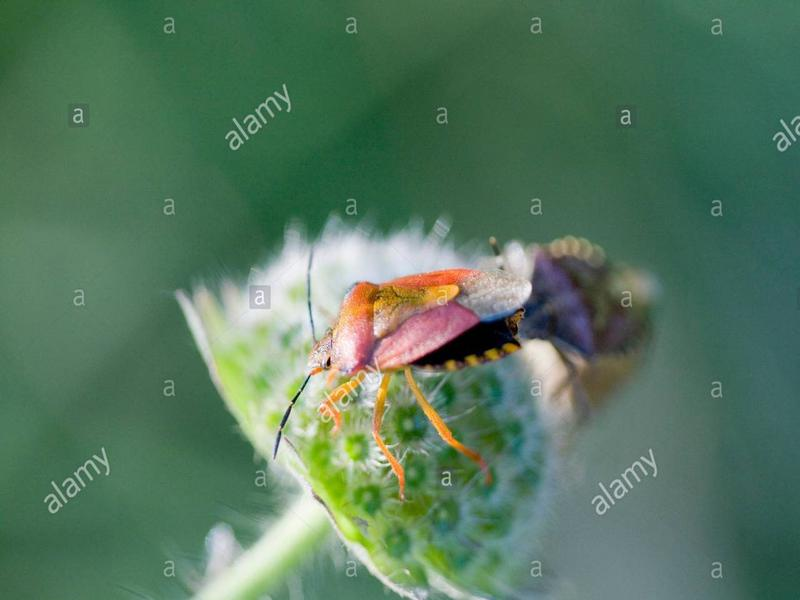Rice_earhead_bug: (273, 234, 645, 429)
